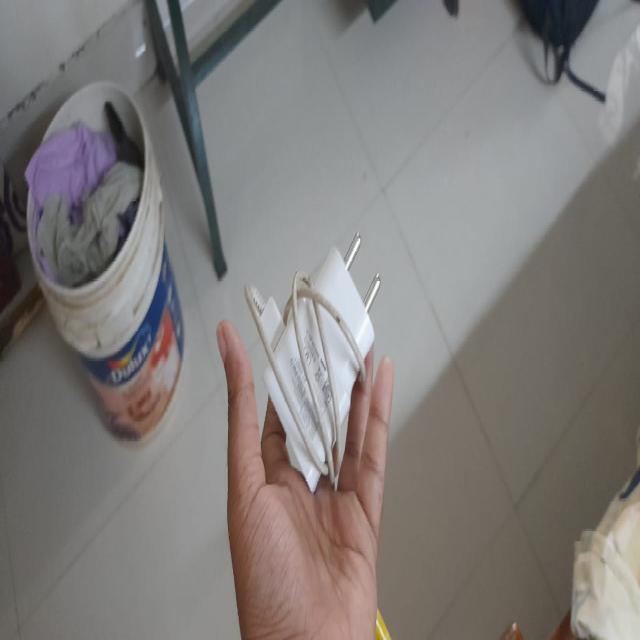Charger - Recyclable: (243, 228, 381, 496)
